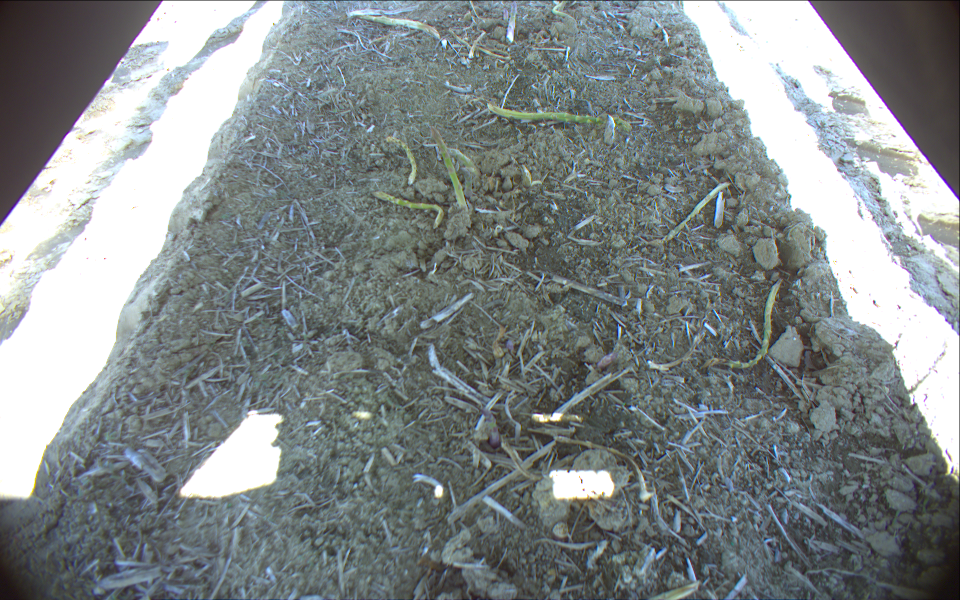aspa: (424, 122, 471, 215)
